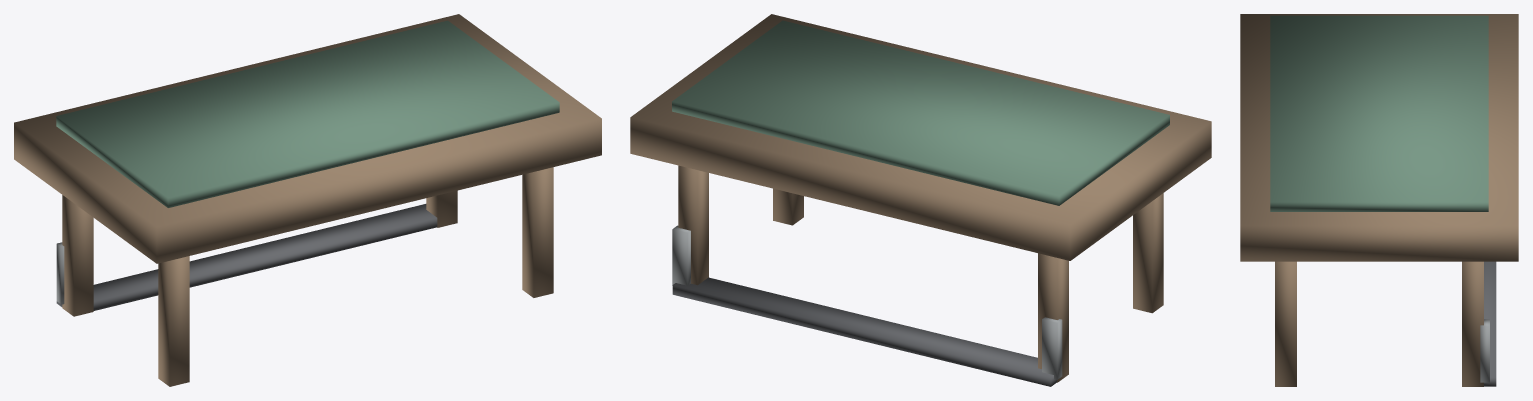
Rendered from pool_table__reinforced.glb.
3 renders of one model, left to right at view 1: azimuth 30°, elevation 25°; view 2: azimuth 150°, elevation 25°; view 3: azimuth 270°, elevation 25°, orthographic. The views are drawn at different scales.
Visible parts, largest first — view 1: world; view 2: world; view 3: world.
Part boxes in pixels (bbox=[...]): world: bbox=[14, 14, 601, 386]; world: bbox=[630, 14, 1211, 386]; world: bbox=[1240, 14, 1518, 386].
Size of the model in its own units: 2.32 by 0.9537 by 1.29.
